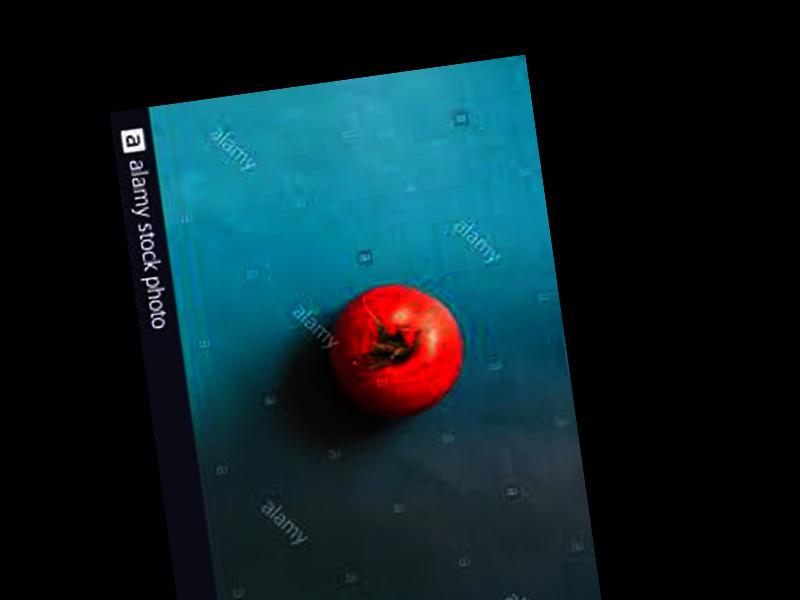Tomato: (319, 276, 472, 424)
